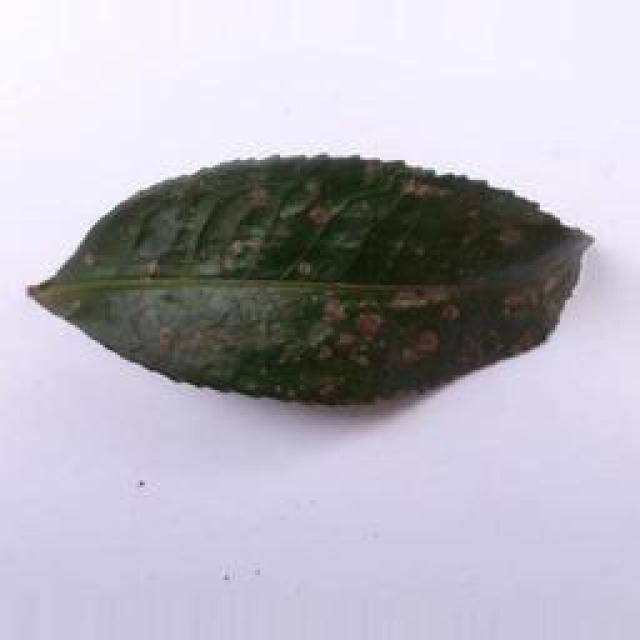Algal Leaf Spot: (18, 147, 603, 419)
